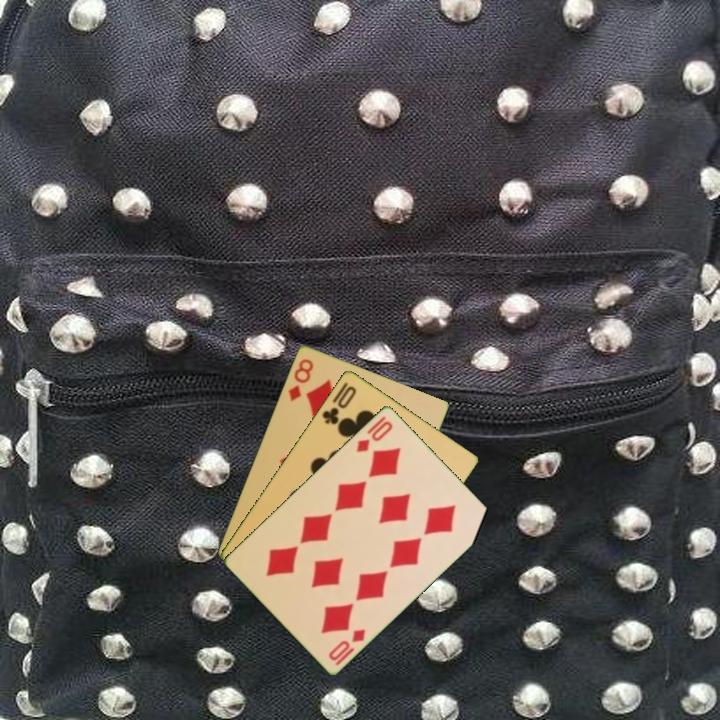10c: (318, 382, 359, 427)
10d: (325, 625, 368, 668), (352, 417, 396, 455)
8d: (284, 355, 316, 404)
